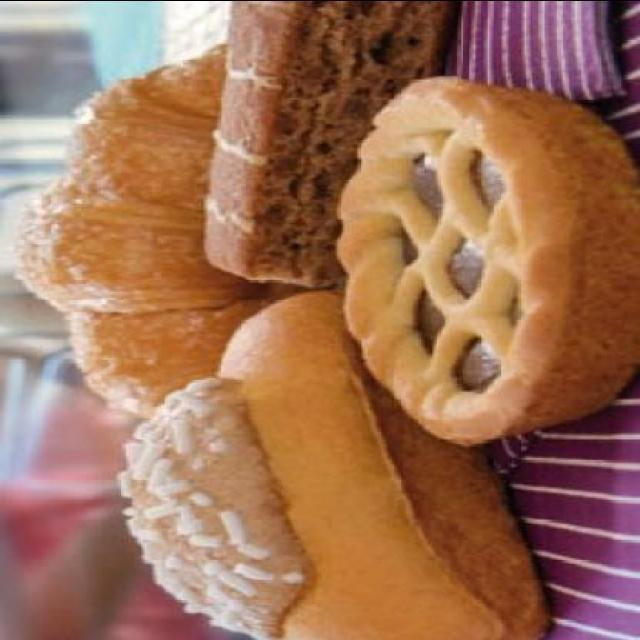Merendine packaged: (120, 287, 583, 638), (333, 70, 638, 447), (199, 0, 453, 288)
